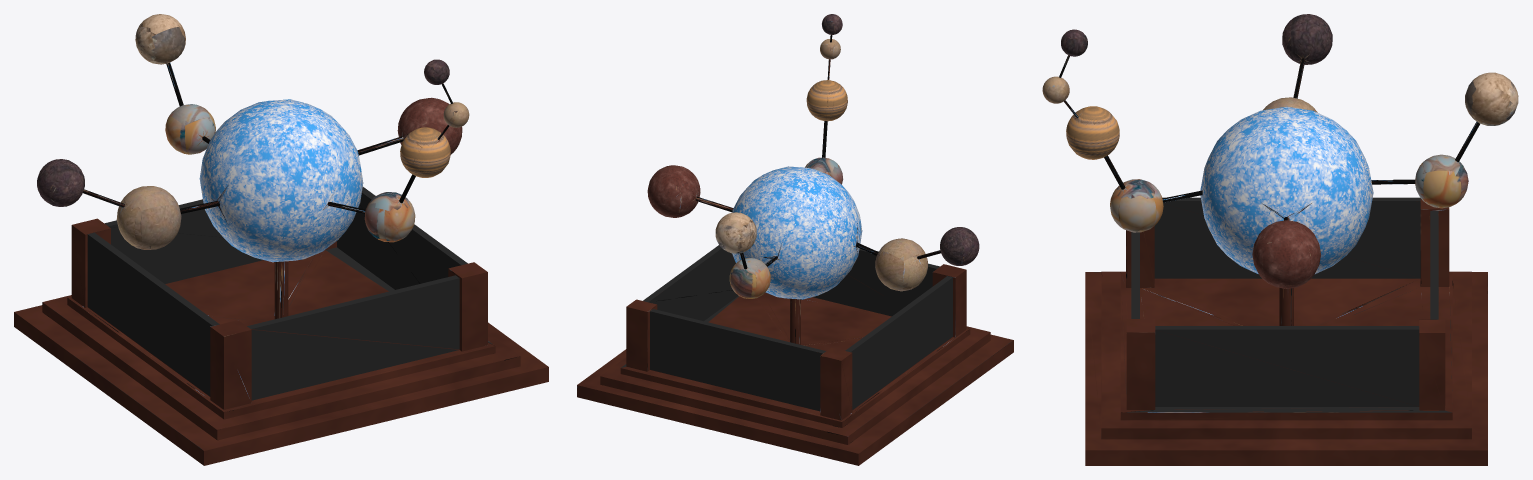
File: planetDiorama.glb
3 renders of one model, left to right at view 1: azimuth 30°, elevation 25°; view 2: azimuth 150°, elevation 25°; view 3: azimuth 270°, elevation 25°, orthographic. The views are drawn at different scales.
Parts seen in each view (by area): view 1: planetDiorama_V51_TEMP; view 2: planetDiorama_V51_TEMP; view 3: planetDiorama_V51_TEMP.
Part boxes in pixels (left/top/right/bottom): planetDiorama_V51_TEMP: left=14, top=14, right=548, bottom=465; planetDiorama_V51_TEMP: left=577, top=14, right=1013, bottom=465; planetDiorama_V51_TEMP: left=1042, top=14, right=1518, bottom=465.
Size of the model in its own units: 14.32 by 11.85 by 13.65.
1 material, 1 textured.
